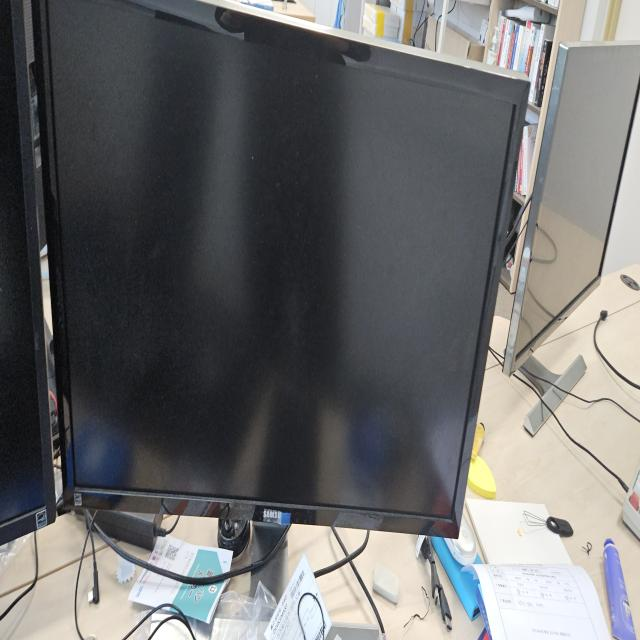Monitor: (29, 1, 531, 554)
